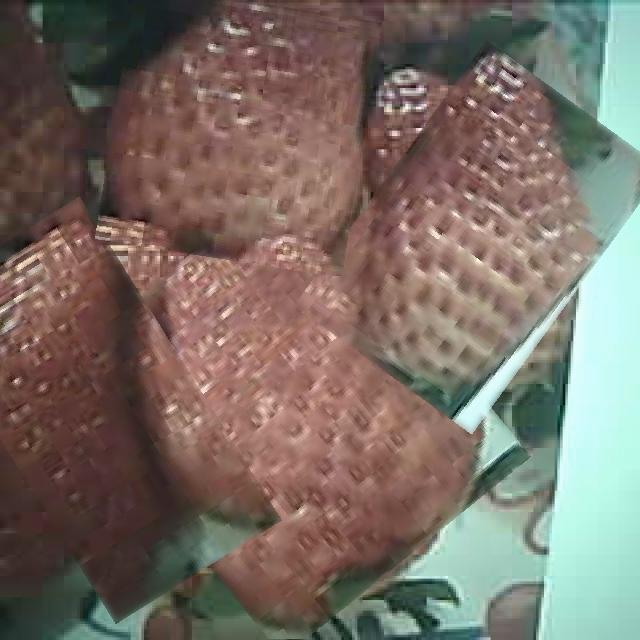strawberry: (90, 198, 490, 628), (332, 57, 627, 418), (0, 209, 239, 613), (104, 0, 373, 267)
